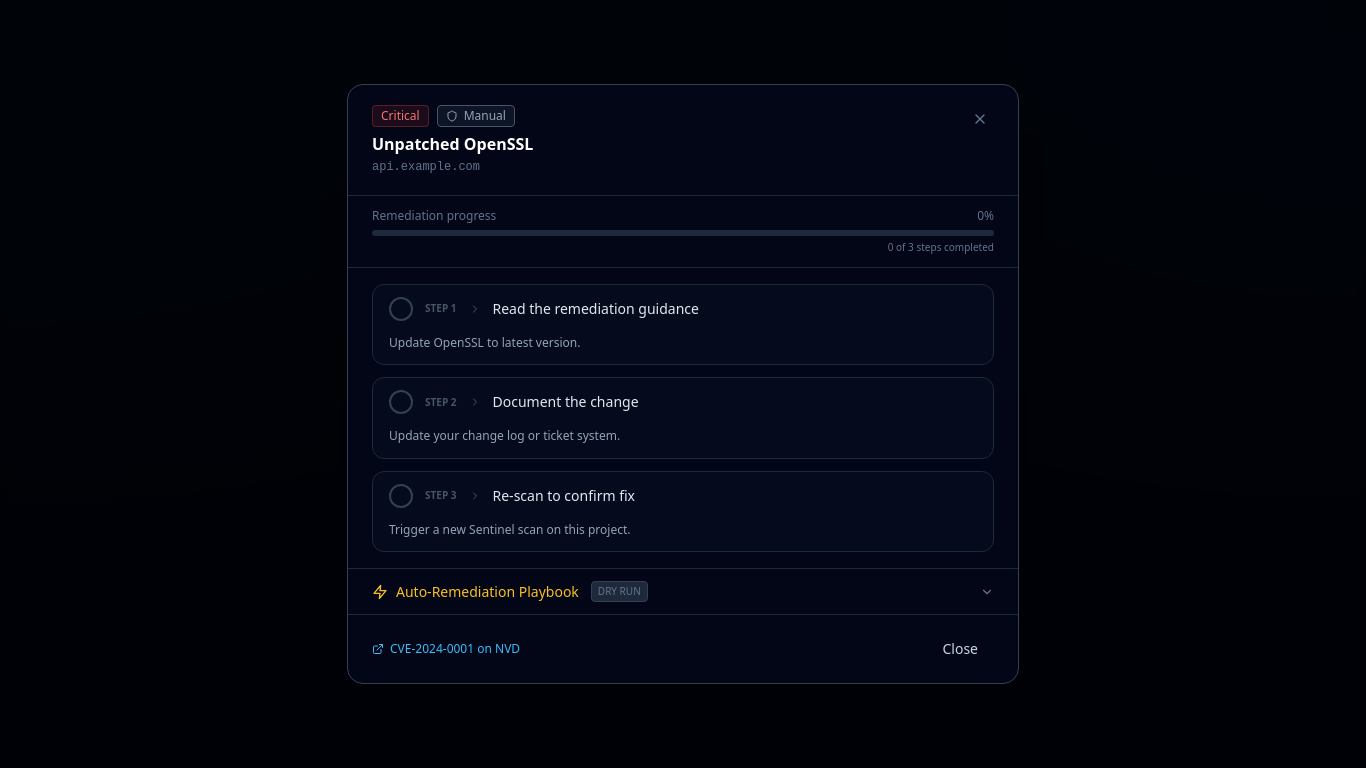
Test: RemediationModal — Auto-Remediation Playbook › shows preview warning note after expanding
Click the text "Auto-Remediation Playbook" at (487, 592), box [396,582,579,602]
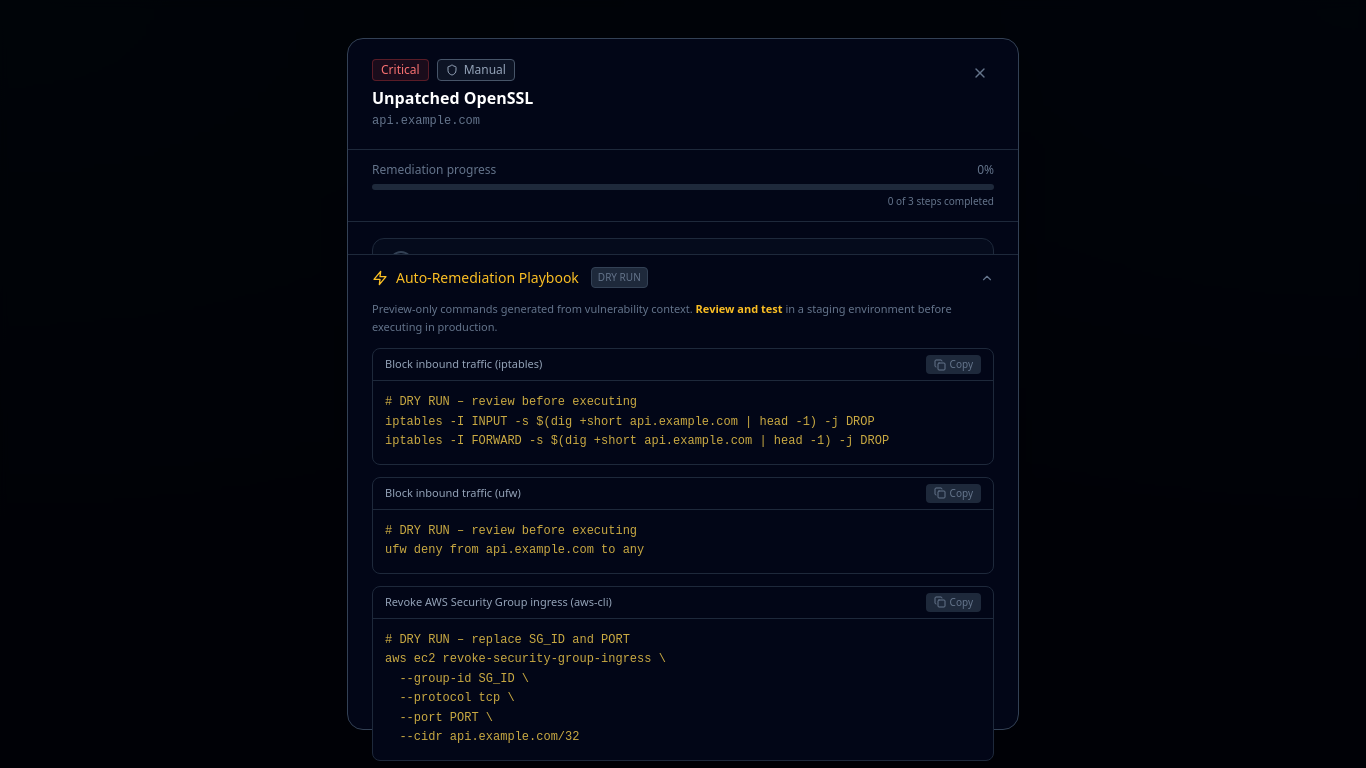
expect the text "Preview-only commands" is shown: met, box [372,301,696,316]
